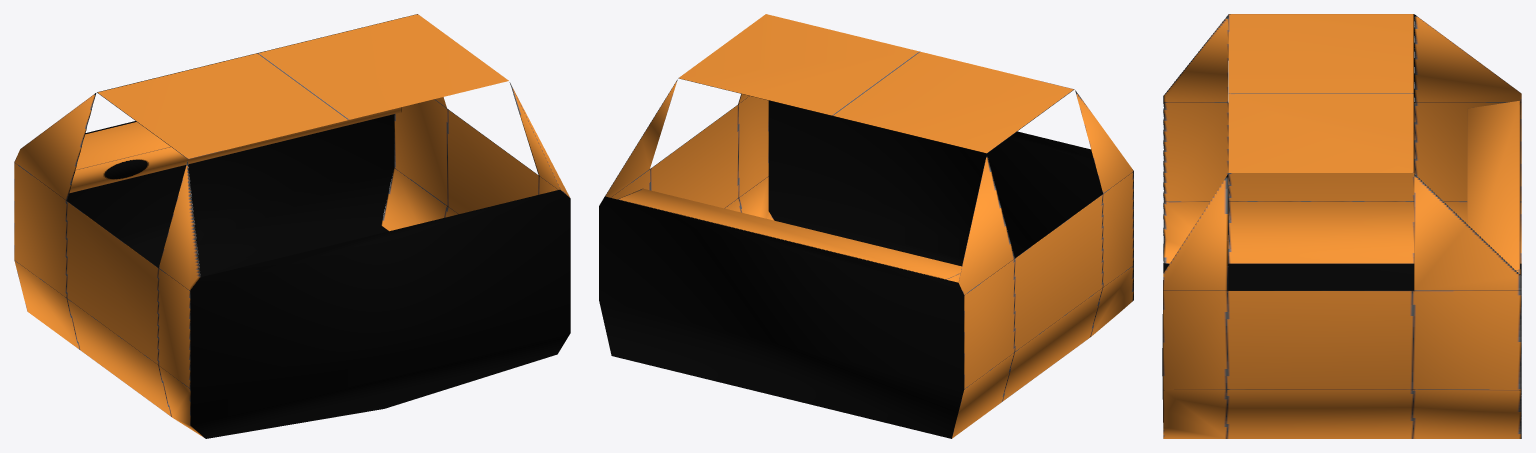
File: inside.fbx
The picture shows the model from 3 angles, left to right: view 1: azimuth 30°, elevation 25°; view 2: azimuth 150°, elevation 25°; view 3: azimuth 270°, elevation 25°; orthographic projection. The views are drawn at different scales.
Visible parts, largest first — view 1: Shell; view 2: Shell; view 3: Shell.
Boxes of the visible parts, x1,y1,x2,y2 form: Shell: (14,14,570,438); Shell: (599,14,1133,438); Shell: (1162,14,1521,438).
Size of the model in its own units: 2 by 1.34 by 1.61.
